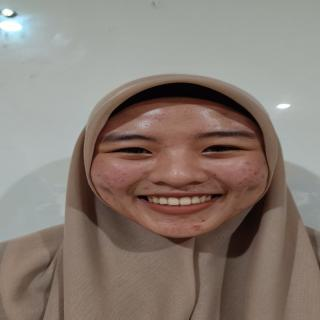Senang: (83, 87, 277, 247)
